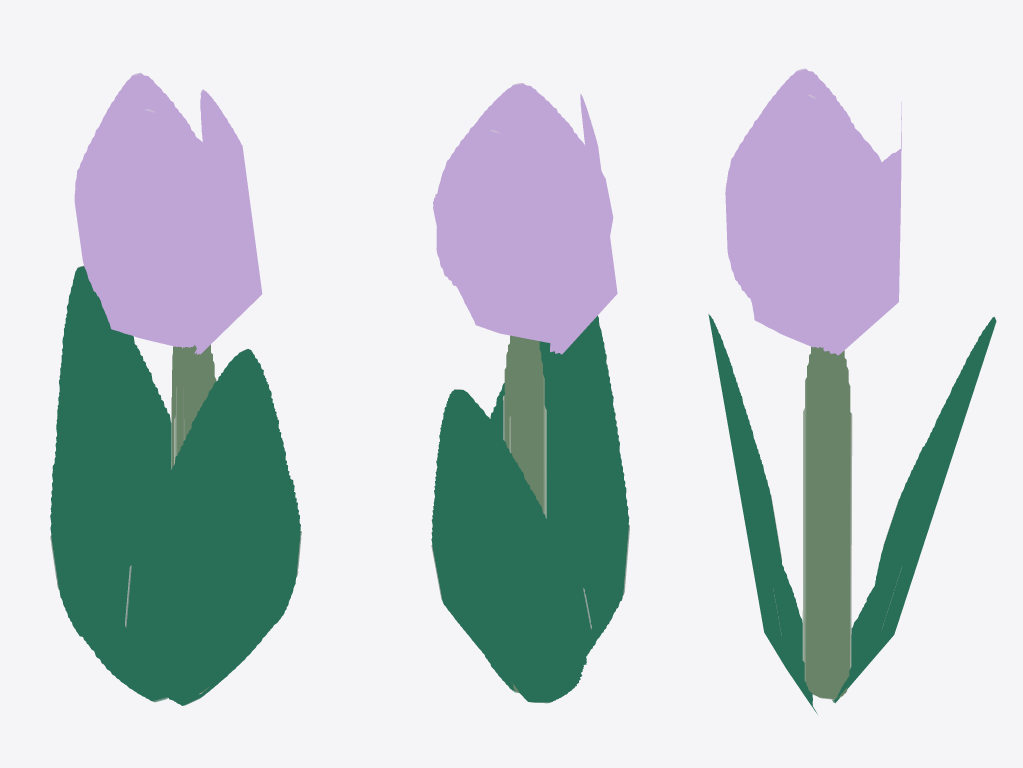
The model's file is Tulip_p.fbx.
3 renders of one model, left to right at view 1: azimuth 30°, elevation 25°; view 2: azimuth 150°, elevation 25°; view 3: azimuth 270°, elevation 25°, orthographic. The views are drawn at different scales.
Visible parts, largest first — view 1: polySurface31; view 2: polySurface31; view 3: polySurface31.
Boxes of the visible parts, x1=… form: polySurface31: x1=50, y1=72, x2=301, y2=705; polySurface31: x1=431, y1=83, x2=629, y2=703; polySurface31: x1=708, y1=68, x2=996, y2=714.
Bounding box in the file's own units: 0.1498 × 0.3176 × 0.1319.
